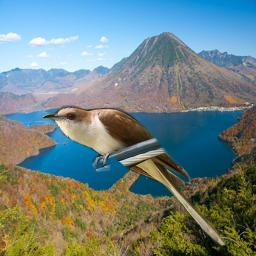Cuckoo: (41, 105, 229, 249)
